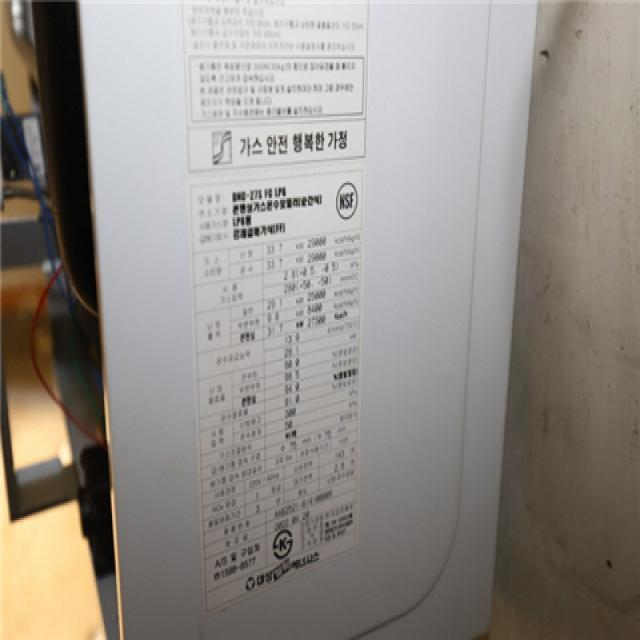Boiler: (28, 0, 576, 634)
